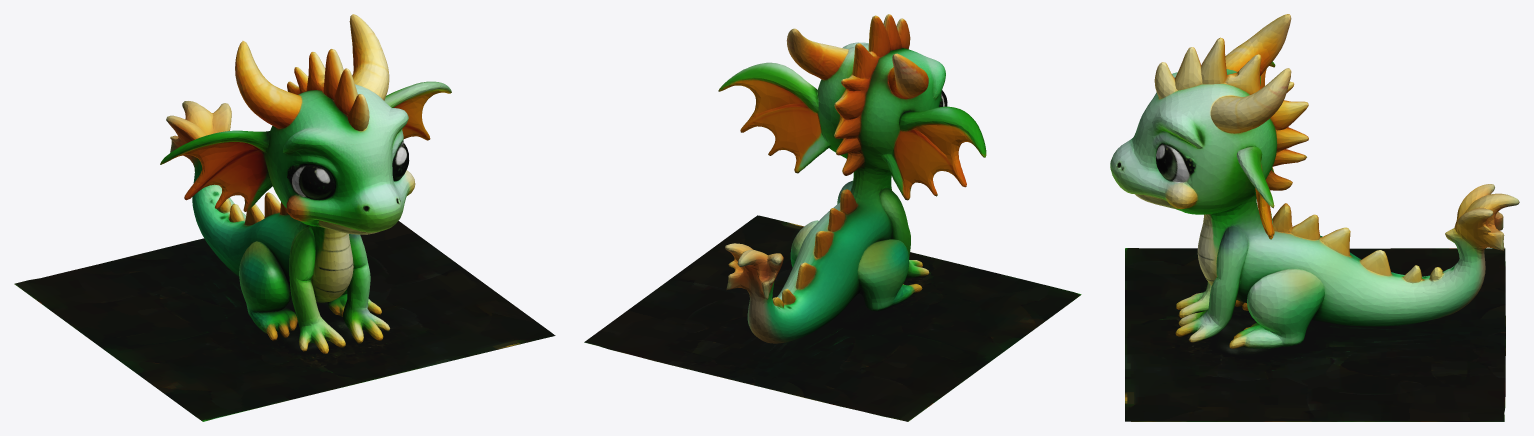
The model's file is small-green-dragon.glb.
3 views of the same model, side by side, from view 1: azimuth 30°, elevation 25°; view 2: azimuth 150°, elevation 25°; view 3: azimuth 270°, elevation 25° (orthographic). The views are drawn at different scales.
Parts seen in each view (by area): view 1: world; view 2: world; view 3: world.
Boxes of the visible parts, bbox=[...] form: world: bbox=[14, 14, 555, 421]; world: bbox=[584, 14, 1081, 421]; world: bbox=[1110, 14, 1519, 421].
Bounding box in the file's own units: 1 × 0.8039 × 0.9975.
1 material, 1 textured.
